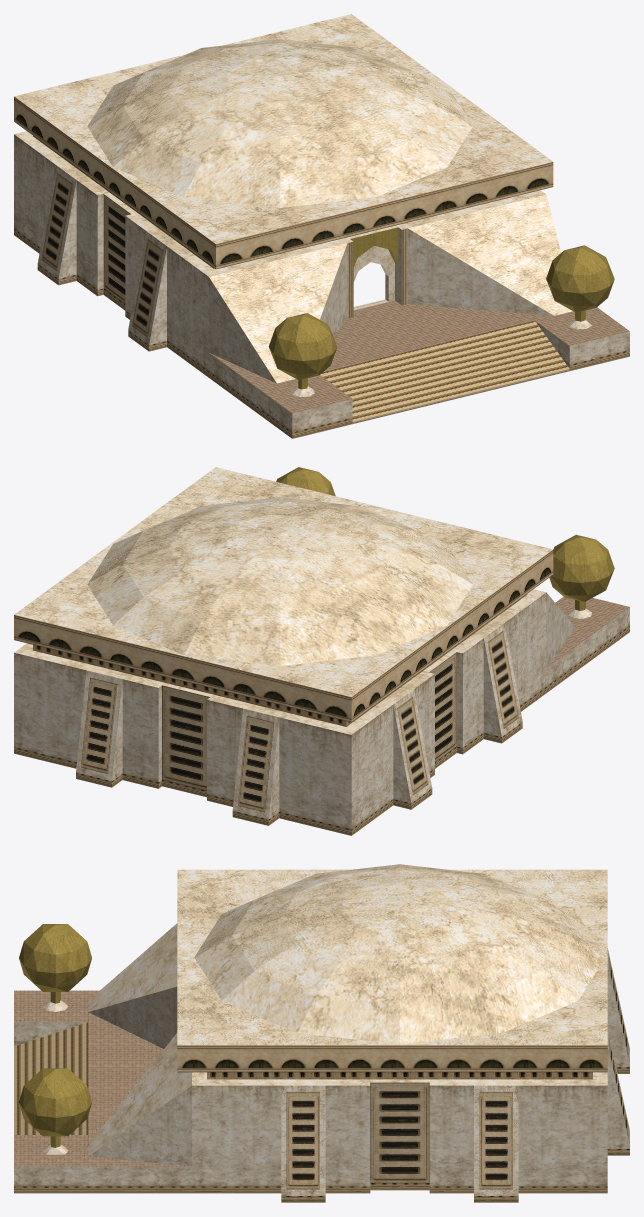
File: mun_tato_guild_commerce_s01_r0_exterior_mesh_l1.fbx
3 views of the same model, one above another, from view 1: azimuth 30°, elevation 25°; view 2: azimuth 150°, elevation 25°; view 3: azimuth 270°, elevation 25° (orthographic). The views are drawn at different scales.
Visible parts, largest first — view 1: mesh_node; view 2: mesh_node; view 3: mesh_node.
Part boxes in pixels (x1,y1,x2,y2): mesh_node: (14, 14, 629, 438); mesh_node: (14, 467, 629, 835); mesh_node: (14, 864, 629, 1202).
Bounding box in the file's own units: 38.75 × 18.75 × 51.88.
